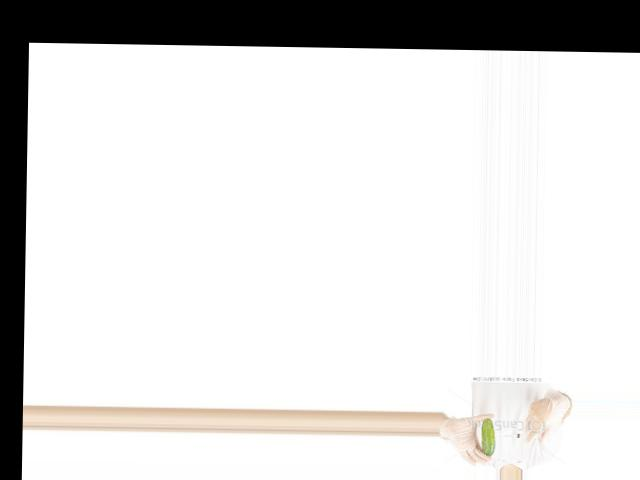cucumber: (480, 418, 494, 456)
